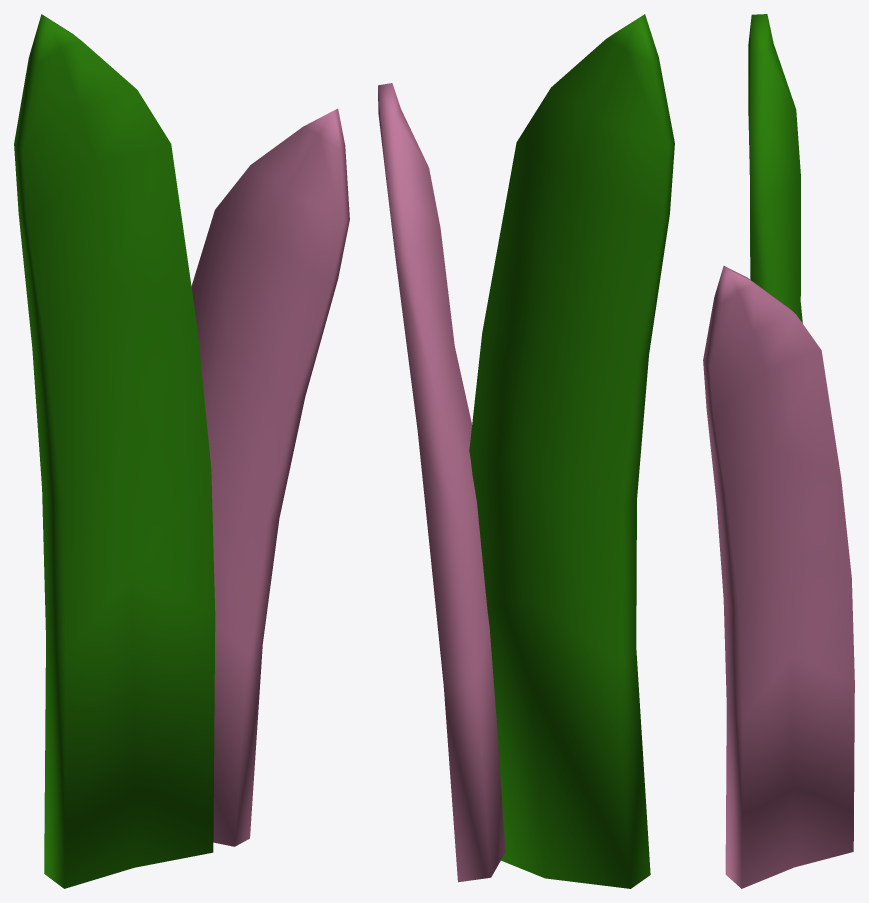
The model's file is grass-20_col.fbx.
3 renders of one model, left to right at view 1: azimuth 30°, elevation 25°; view 2: azimuth 150°, elevation 25°; view 3: azimuth 270°, elevation 25°, orthographic. The views are drawn at different scales.
Visible parts, largest first — view 1: grass-20.col; view 2: grass-20.col; view 3: grass-20.col.
Part boxes in pixels (box(x1,y1,x2,y2)): grass-20.col: box(14, 14, 349, 888); grass-20.col: box(378, 14, 674, 888); grass-20.col: box(703, 14, 854, 888).
Size of the model in its own units: 0.0311 by 0.0835 by 0.0146.
1 material, 1 textured.
